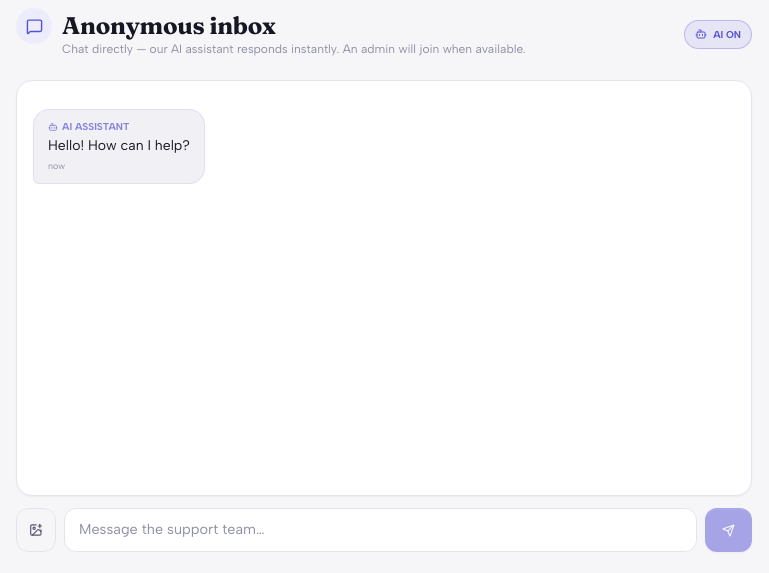
UserChat � duplicate prevention › does not duplicate the user message when the server confirm arrives late (slow AI reply)
The image size is (769, 573).
Expected: the text "Hello! How can I help?" is shown, 48,136 -> 190,156
Type "late confirm" into the field named "Chat message" at (380, 530), box 64,508 -> 697,552
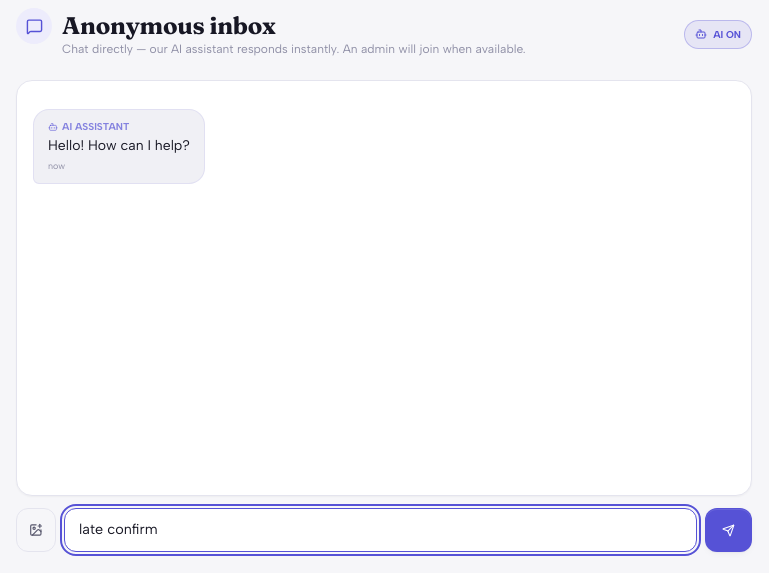
Click the button named "send" at (729, 530), box 705,508 -> 752,552
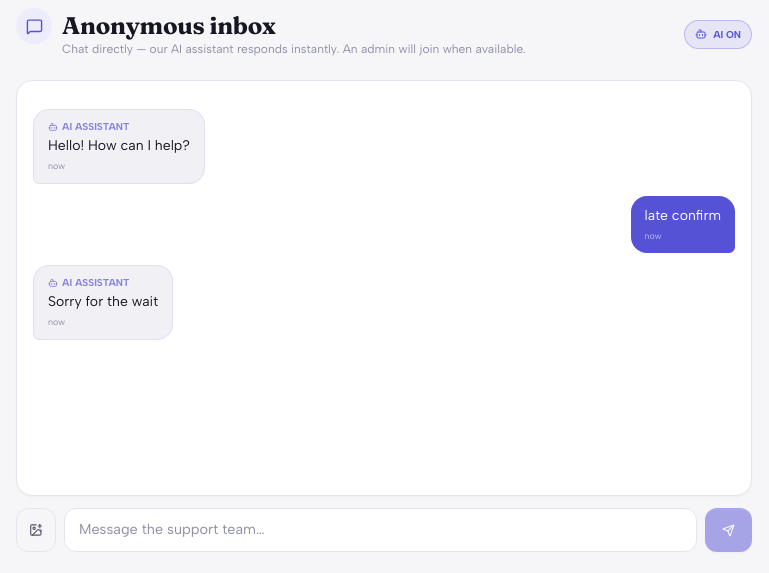
Expected: the text "Sorry for the wait" is shown, 48,292 -> 158,312
Expected: the text "late confirm" is shown once, 644,206 -> 721,226
